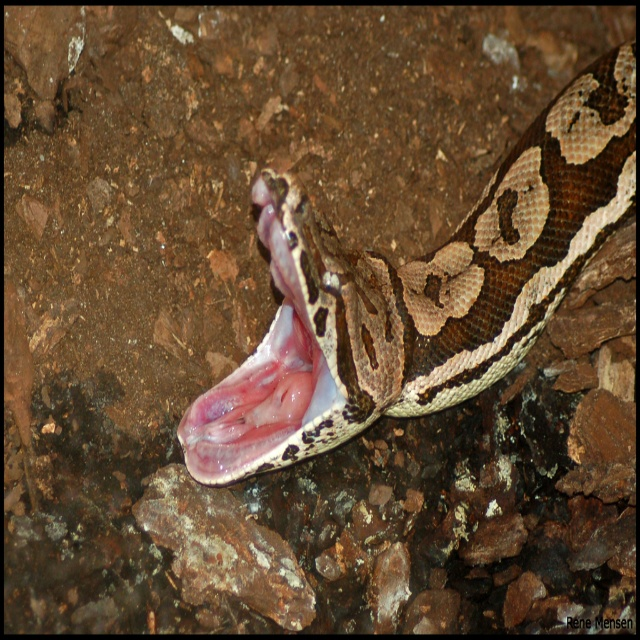Snake: (173, 28, 640, 488)
